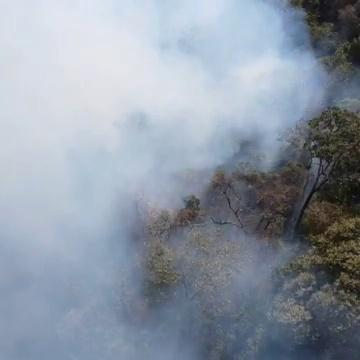smoke: (13, 31, 136, 327)
